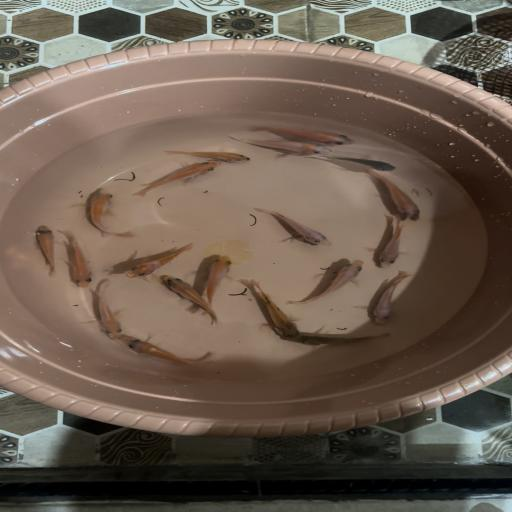nila: (283, 257, 368, 305), (356, 168, 427, 224), (240, 278, 304, 339), (128, 159, 222, 200), (116, 335, 224, 370), (247, 205, 334, 248), (68, 186, 136, 238), (157, 273, 222, 326), (120, 240, 199, 280), (244, 122, 362, 146), (365, 269, 414, 325), (227, 134, 340, 158), (84, 277, 125, 343), (56, 228, 94, 290), (26, 223, 66, 278), (369, 214, 407, 270), (204, 253, 238, 312), (158, 144, 258, 164), (287, 330, 395, 348), (312, 154, 405, 172)
